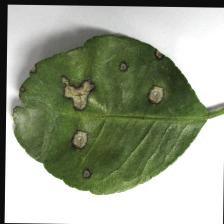canker: (19, 43, 170, 181)
